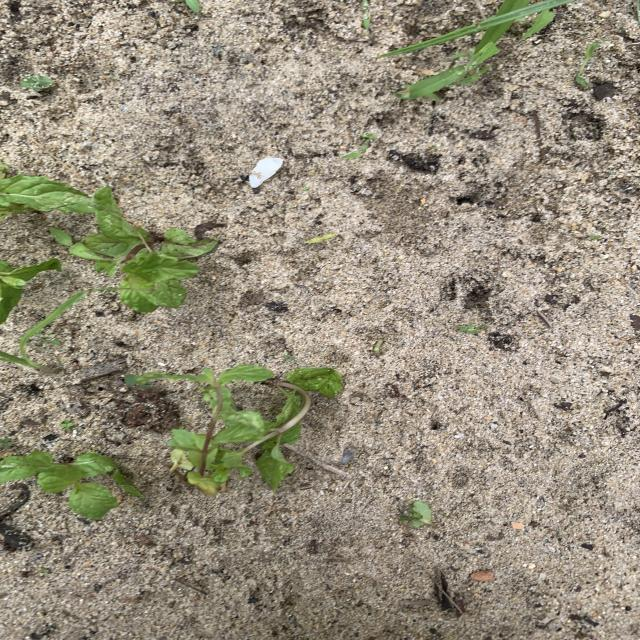crop: (166, 366, 340, 493), (66, 187, 215, 311), (0, 451, 142, 518), (1, 162, 92, 218), (1, 258, 59, 322)
weed: (386, 2, 570, 99), (0, 292, 84, 373), (575, 40, 600, 87), (400, 501, 442, 528), (342, 134, 375, 159), (21, 75, 55, 91), (459, 323, 485, 334), (174, 1, 199, 11), (308, 234, 334, 242), (370, 341, 382, 355), (60, 421, 73, 429), (1, 438, 11, 447), (282, 355, 294, 359)
